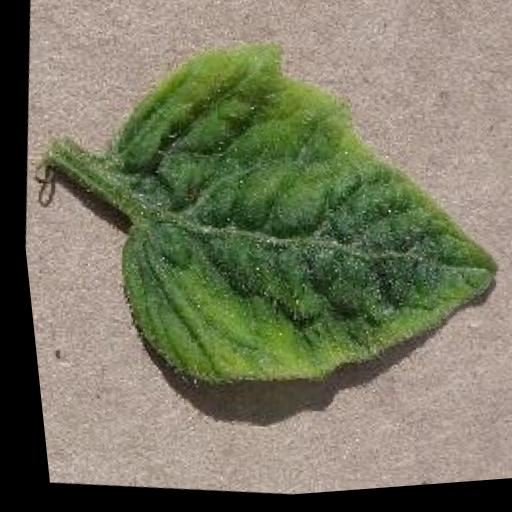Yellow Leaf Curl Virus: (66, 17, 512, 431)
